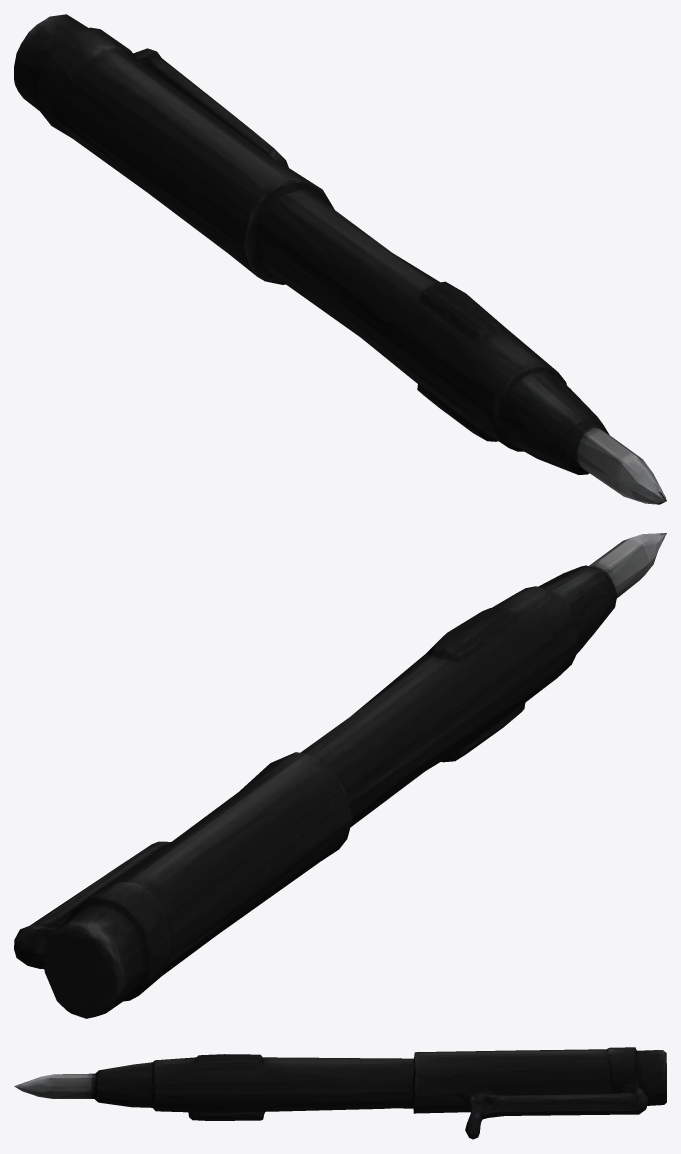
The model's file is black_pen2.glb.
The picture shows the model from 3 angles, top to bottom: view 1: azimuth 30°, elevation 25°; view 2: azimuth 150°, elevation 25°; view 3: azimuth 270°, elevation 25°; orthographic projection. The views are drawn at different scales.
Visible parts, largest first — view 1: geometry_0; view 2: geometry_0; view 3: geometry_0.
Boxes of the visible parts, bbox=[...] form: geometry_0: bbox=[14, 14, 666, 504]; geometry_0: bbox=[14, 533, 666, 1018]; geometry_0: bbox=[14, 1047, 666, 1139].
Bounding box in the file's own units: 0.135 × 0.1122 × 0.9978.
Materials: 1 (1 with a texture image).
